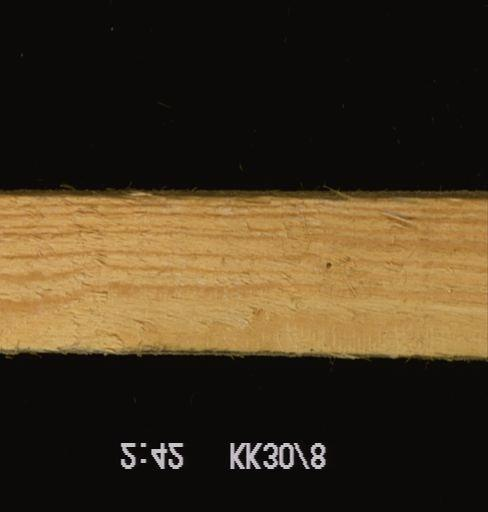small_knot: (318, 257, 337, 275)
